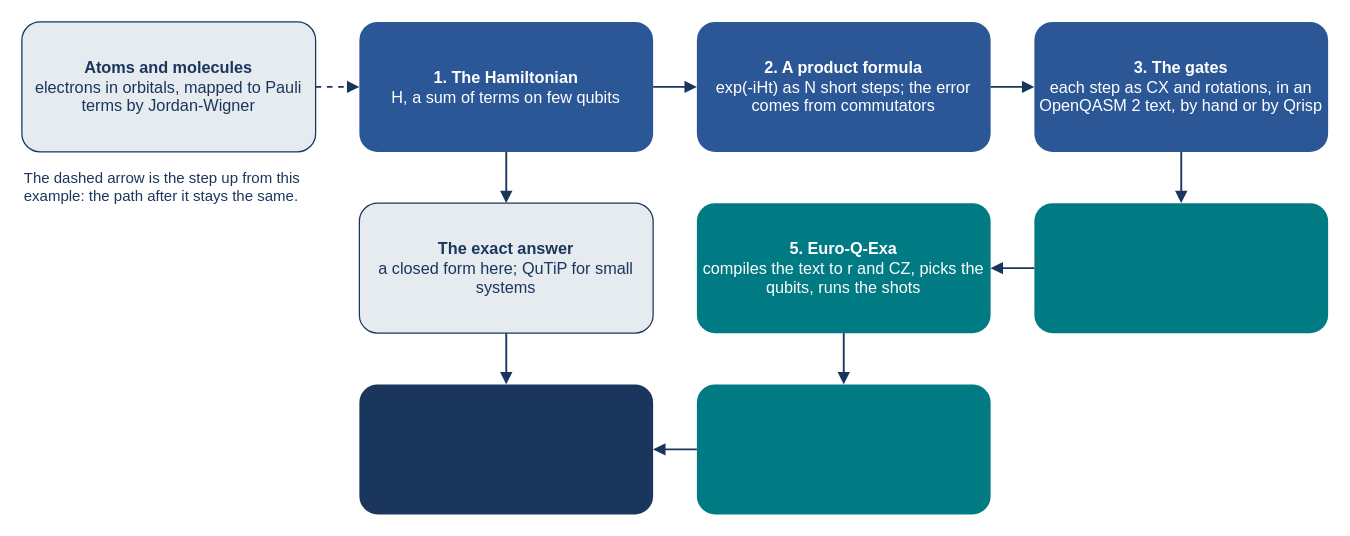
Some shapes in this 1350 by 536 pixel diagram are drawn without their labels. Each missing label, with the centre of its shape:
"4. qdevices a dry run offline, then one send, with a record on disk" goes at (1181,267).
"6. The counts the share of each key, raw and with the conservation check" goes at (843,449).
"7. Compare measured against the text and against the exact answer" goes at (505,449).
